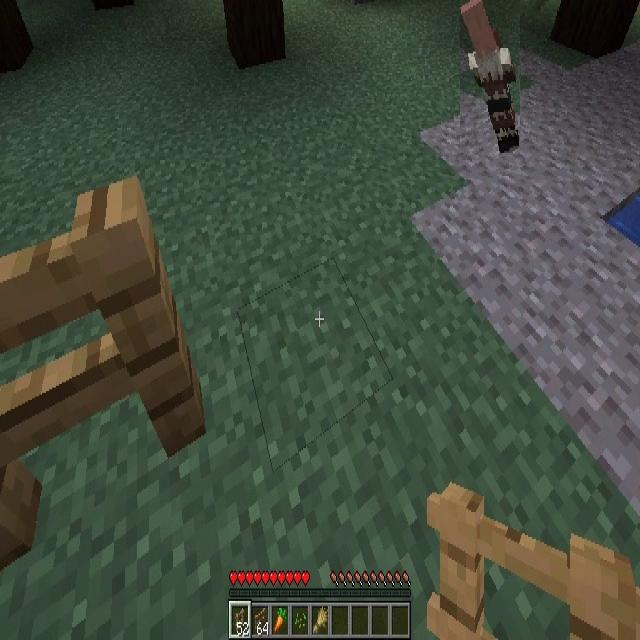people: (460, 0, 520, 155)
